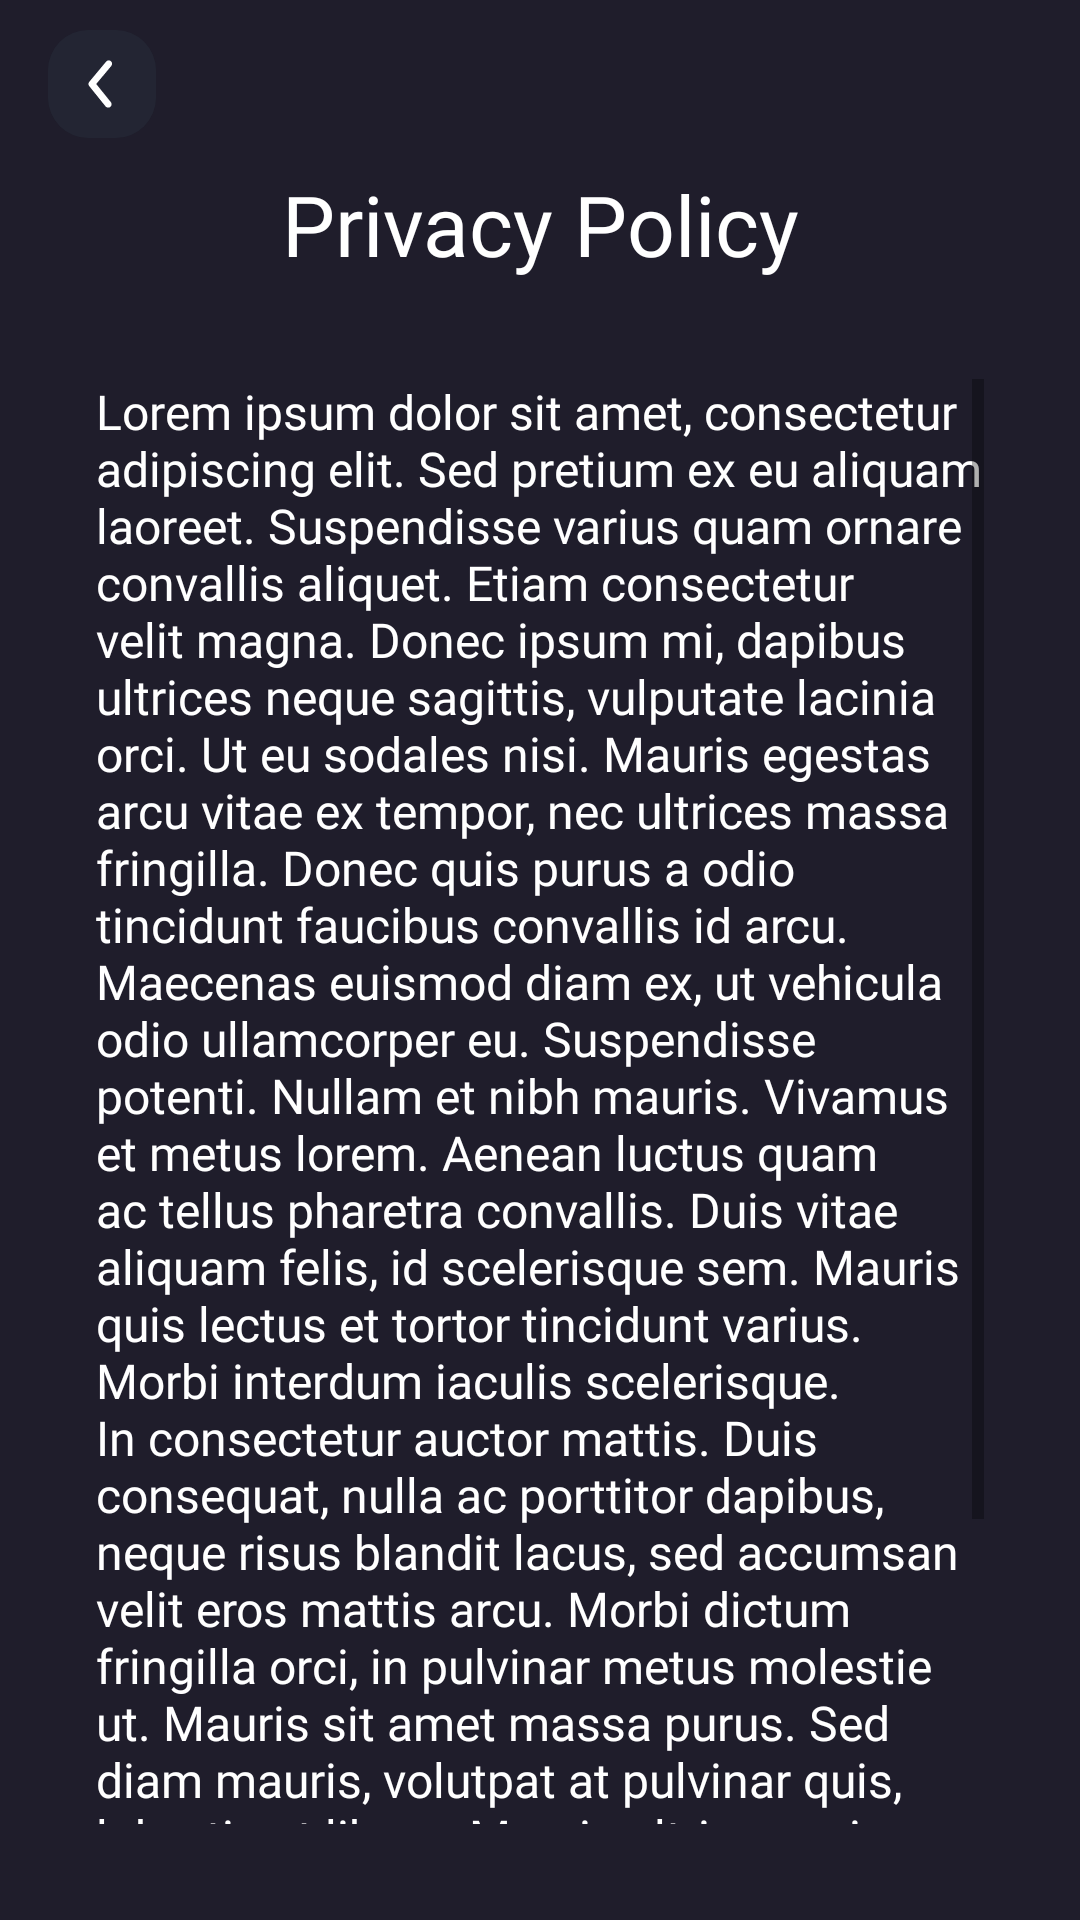

Where icons sit on this 1080w x 1920h app screen, as (x1, y1, x2, y2):
Back icon: (88, 60, 112, 108)
